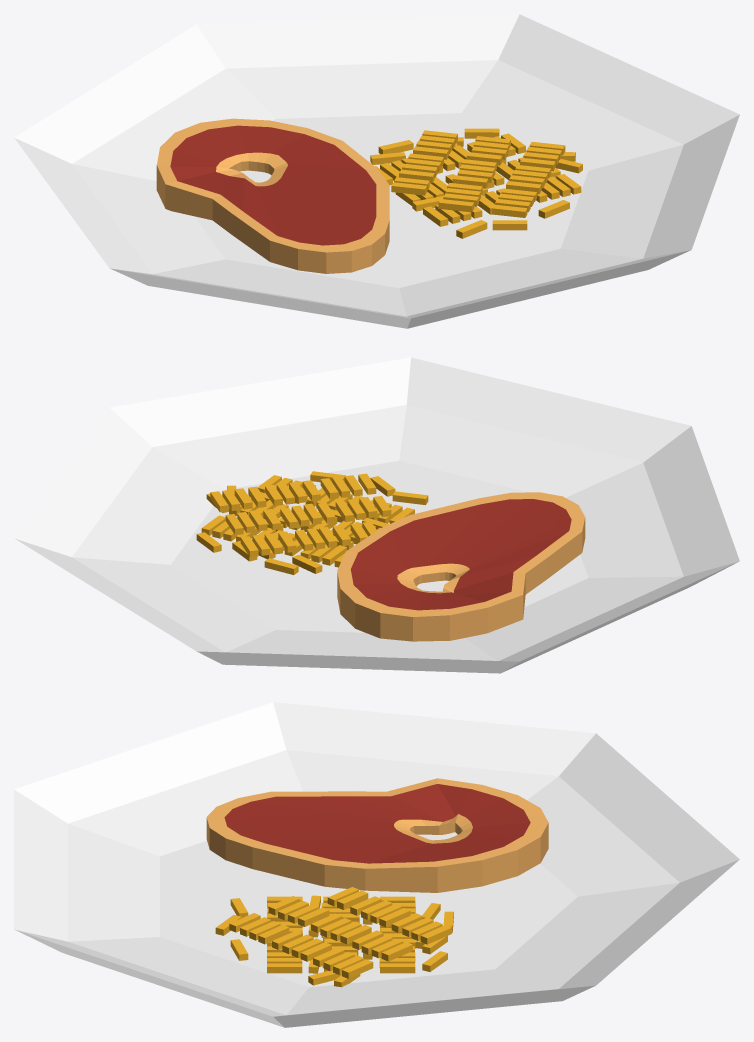
File: pastaWithMeat.fbx
3 renders of one model, top to bottom at view 1: azimuth 30°, elevation 25°; view 2: azimuth 150°, elevation 25°; view 3: azimuth 270°, elevation 25°, orthographic. The views are drawn at different scales.
Parts seen in each view (by area): view 1: Cylinder.001, Cylinder; view 2: Cylinder.001, Cylinder; view 3: Cylinder.001, Cylinder.
Boxes of the visible parts, x1,y1,x2,y2 form: Cylinder.001: (14, 14, 739, 328); Cylinder: (156, 118, 582, 273); Cylinder.001: (14, 357, 739, 673); Cylinder: (196, 471, 585, 641); Cylinder.001: (14, 702, 739, 1027); Cylinder: (206, 778, 548, 987).
Bounding box in the file's own units: 195 × 14.34 × 190.
